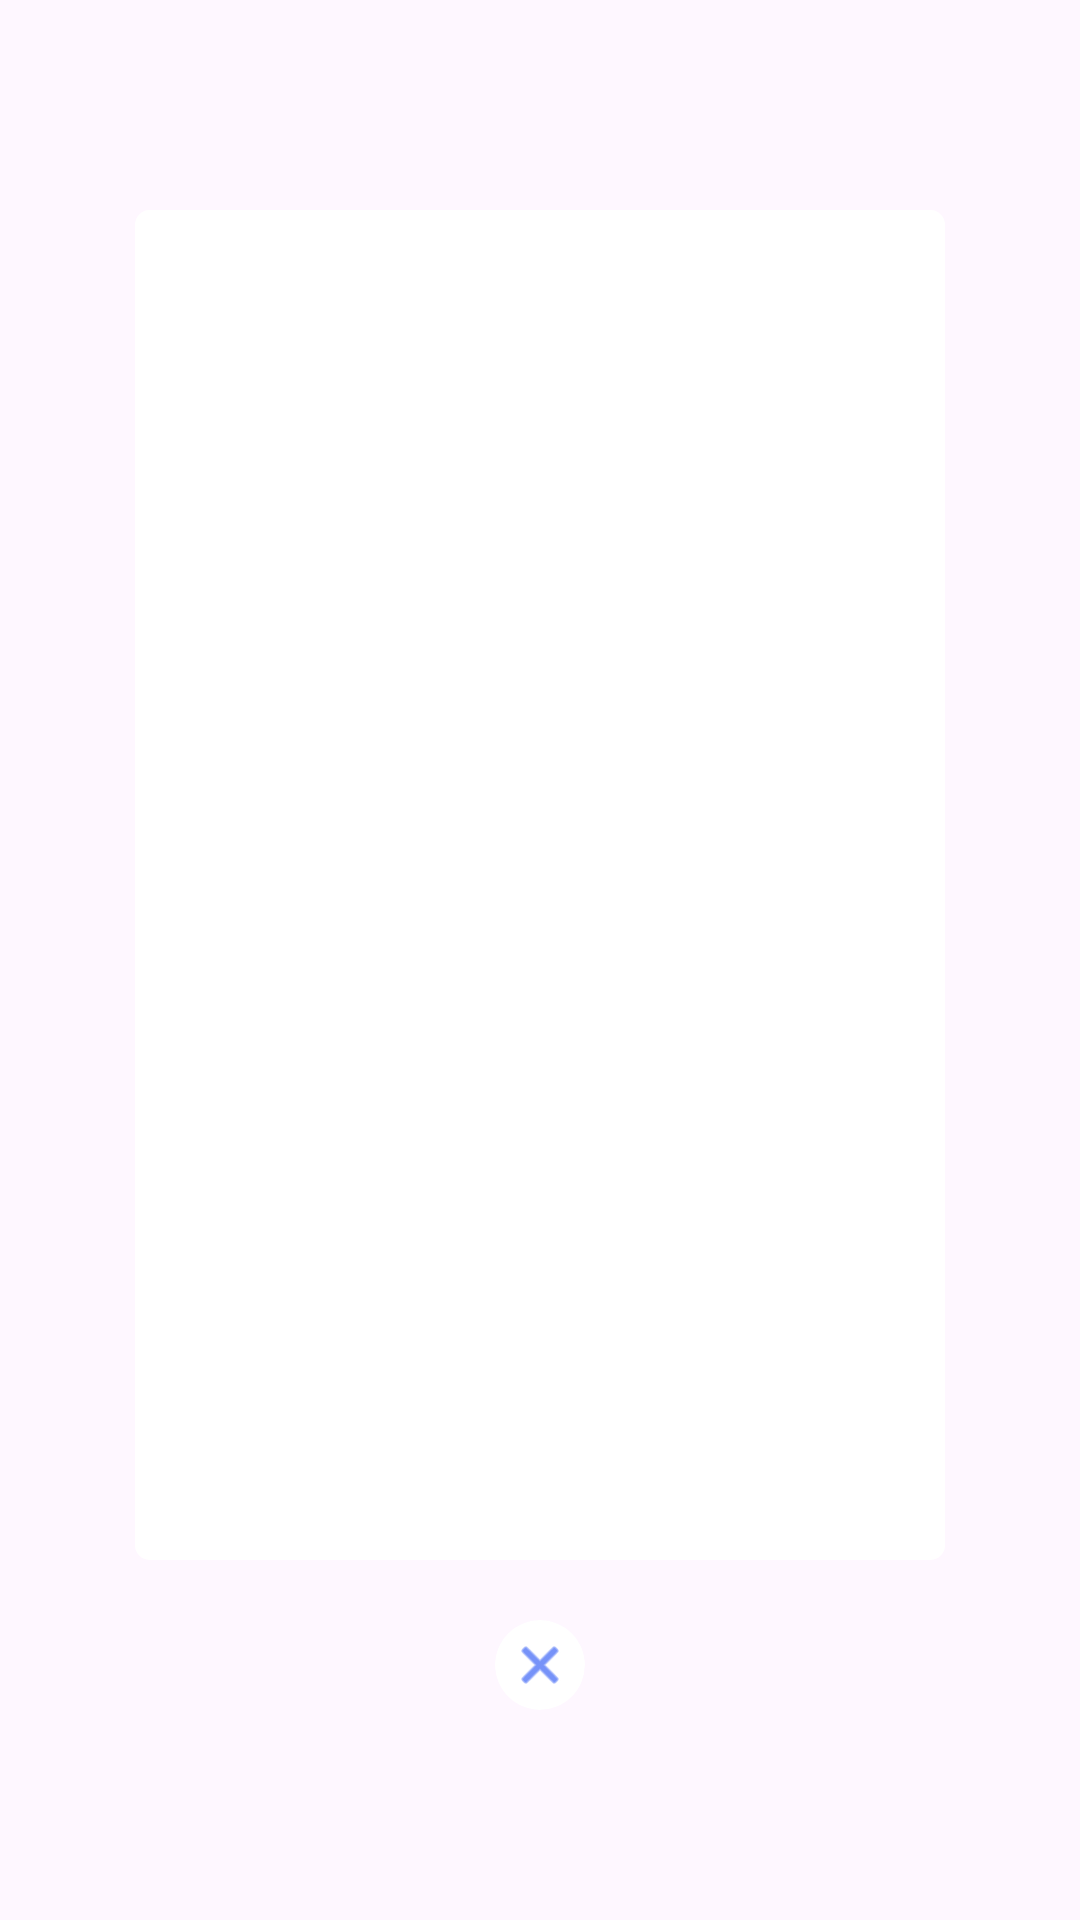

Screen size 1080*1920. Icon name, then its center in pixels as (x=x, y=y):
close clear cancel: (x=540, y=1665)
